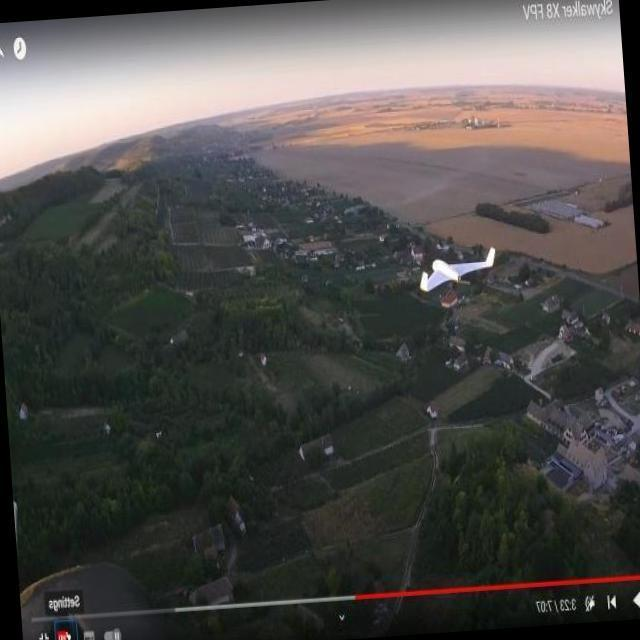iha: (434, 254, 466, 259)
